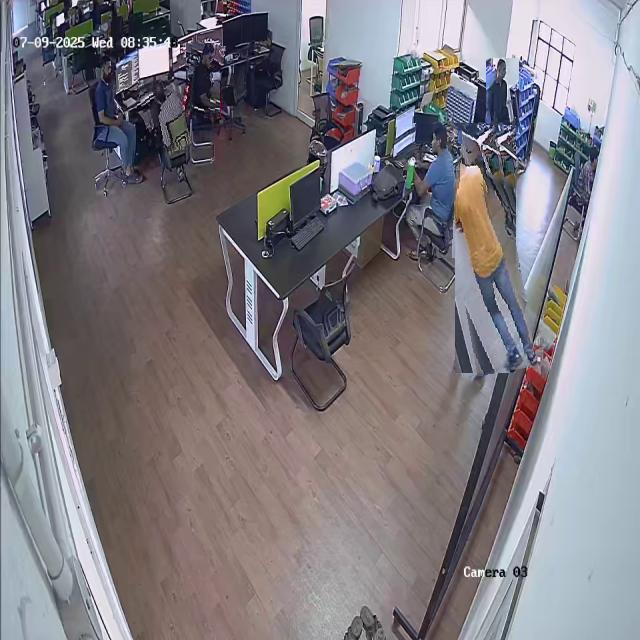person: (444, 122, 527, 374), (405, 124, 461, 258), (88, 54, 138, 180), (141, 80, 188, 154), (183, 43, 223, 119), (486, 58, 519, 125)
